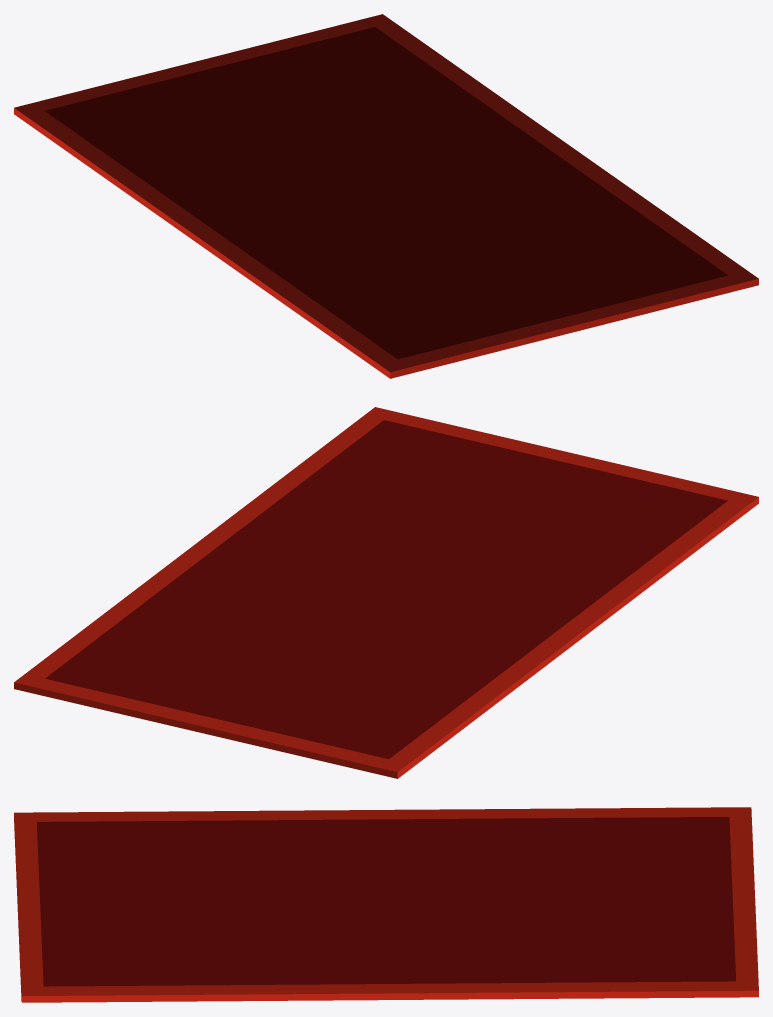
File: Rug 3.fbx
3 renders of one model, top to bottom at view 1: azimuth 30°, elevation 25°; view 2: azimuth 150°, elevation 25°; view 3: azimuth 270°, elevation 25°, orthographic.
Parts seen in each view (by area): view 1: Rug; view 2: Rug; view 3: Rug.
Boxes of the visible parts, left/top/right/bottom form: Rug: left=14, top=14, right=758, bottom=378; Rug: left=14, top=407, right=758, bottom=778; Rug: left=14, top=807, right=758, bottom=1002.
Size of the model in its own units: 1.81 by 0.0177 by 1.09.
